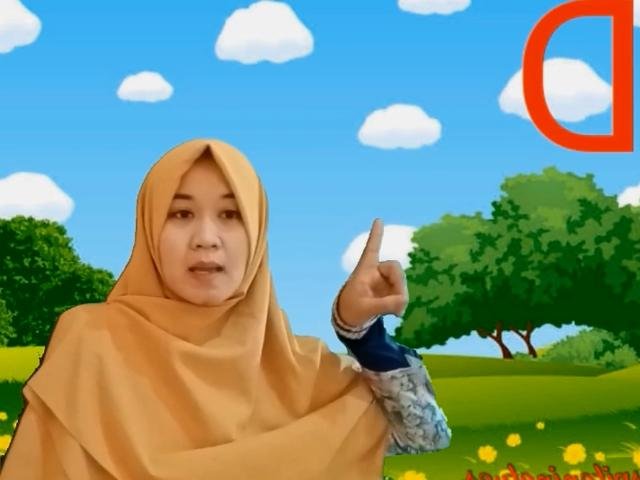D: (334, 217, 414, 332)
